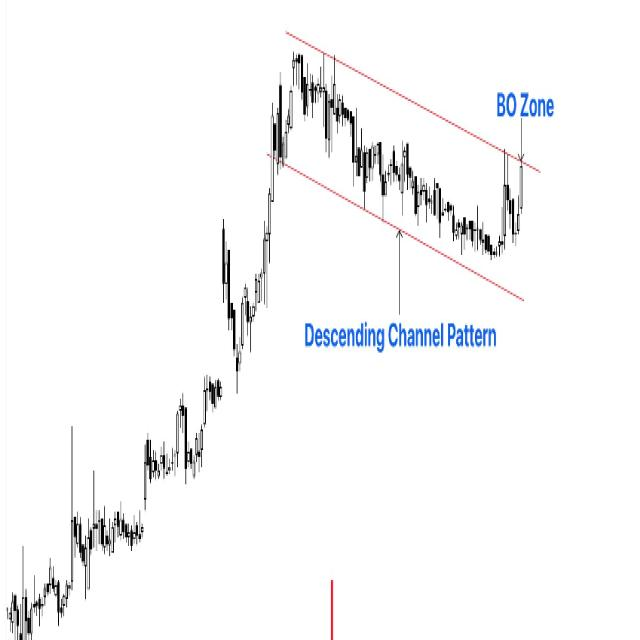Channel-down: (235, 29, 552, 299)
